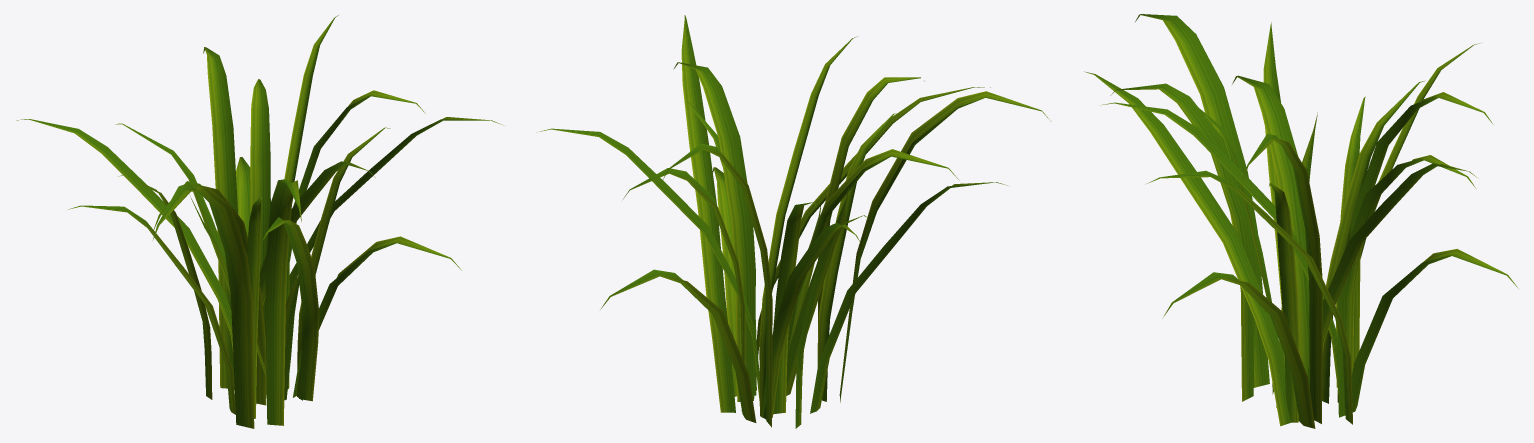
The model's file is grassMesh.glb.
3 renders of one model, left to right at view 1: azimuth 30°, elevation 25°; view 2: azimuth 150°, elevation 25°; view 3: azimuth 270°, elevation 25°, orthographic. The views are drawn at different scales.
Visible parts, largest first — view 1: grassMesh; view 2: grassMesh; view 3: grassMesh.
Part boxes in pixels (x1,y1,x2,y2): grassMesh: (16,15,503,428); grassMesh: (537,15,1051,428); grassMesh: (1084,14,1518,428).
Bounding box in the file's own units: 0.3541 × 0.264 × 0.3284.
1 material, 1 textured.
